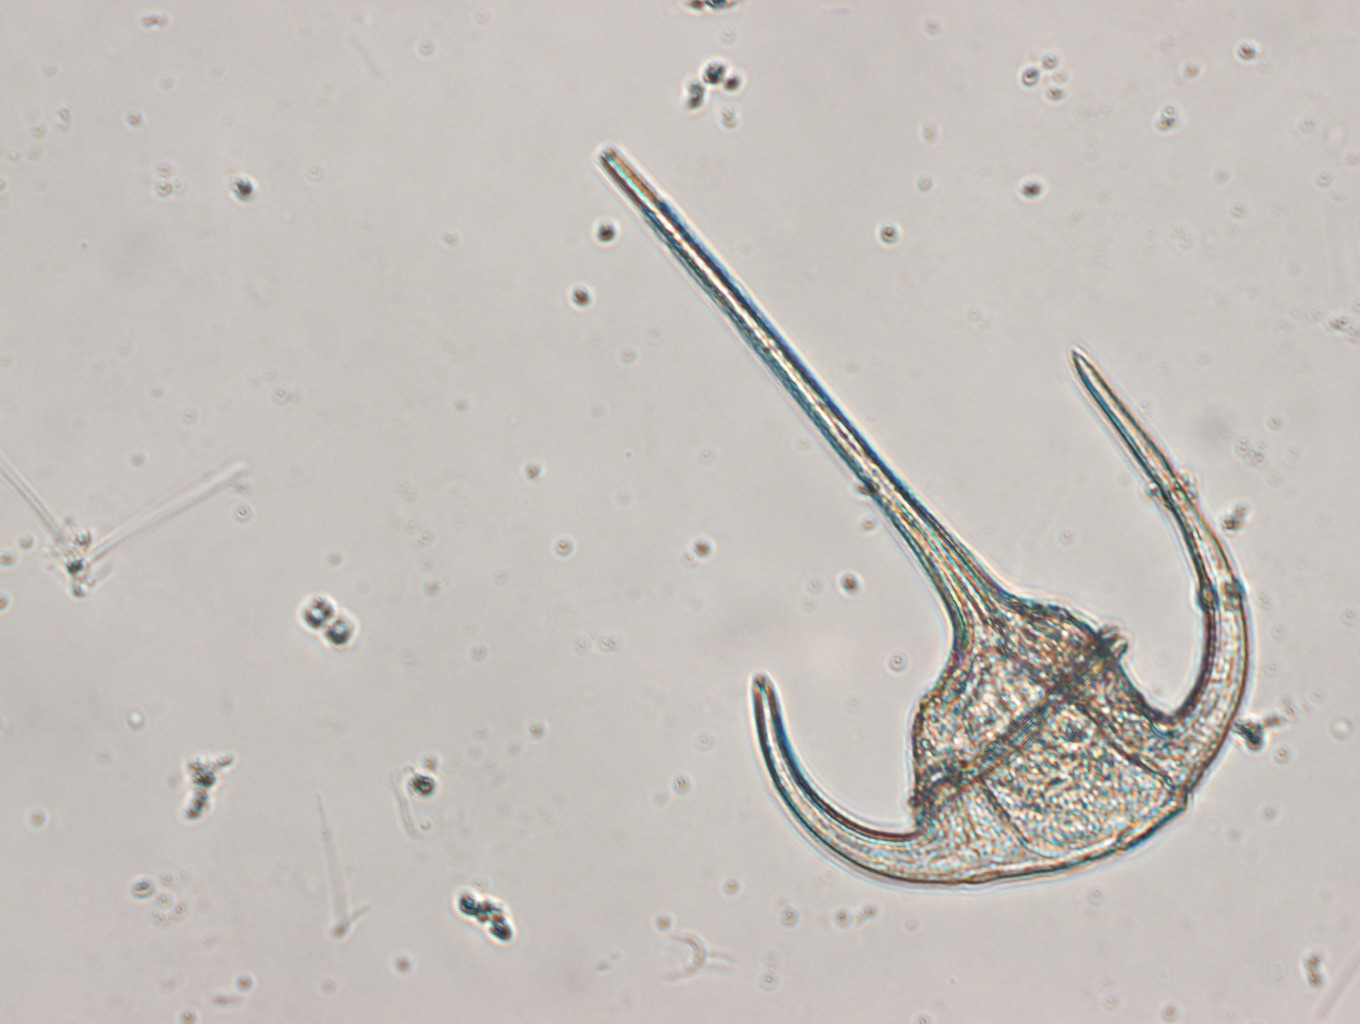ceratium tripos: (593, 141, 1260, 890)
